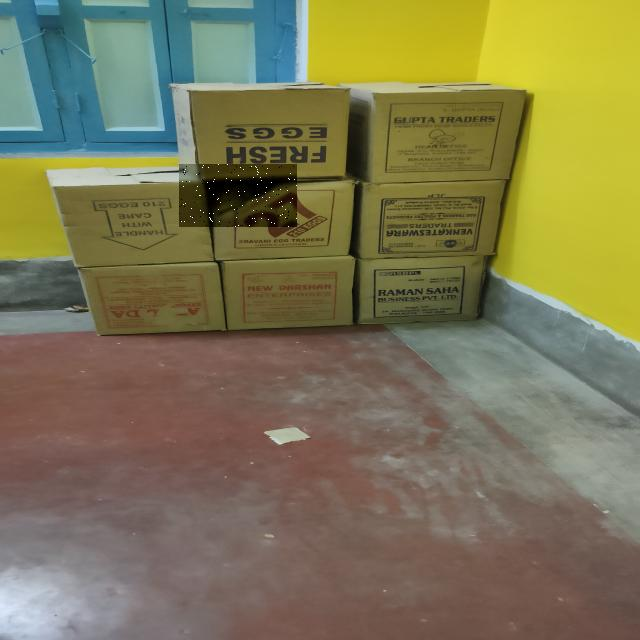squeeze: (179, 164, 297, 227)
